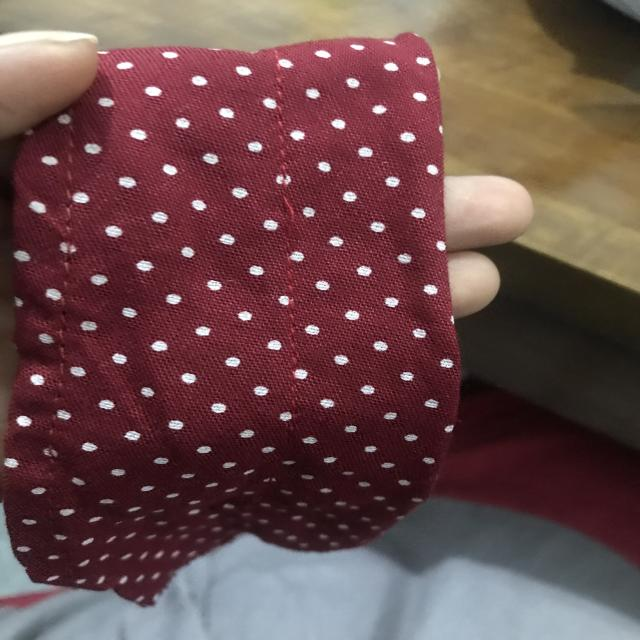skip: (264, 192, 308, 238)
